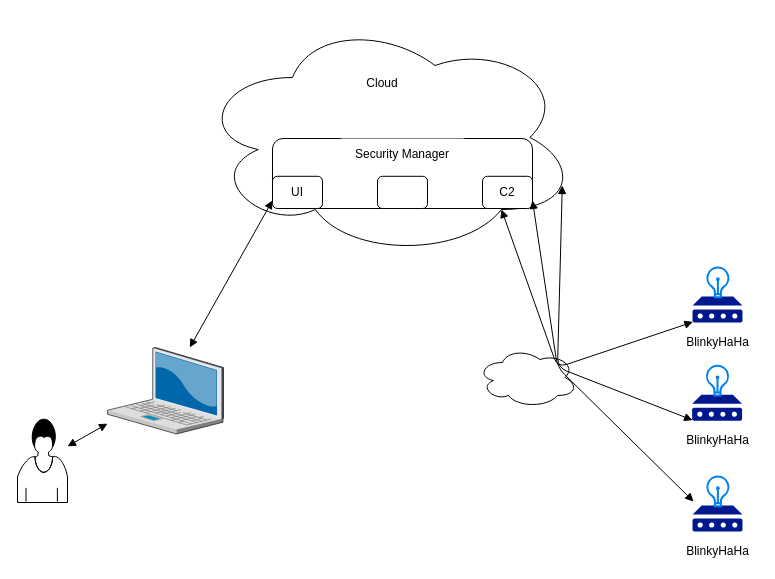
Image size: 775x579. Some labels were removed from this diagram. Each missing label, with the box of its shape:
Business Logic: (376, 175, 428, 208)
LAN: (476, 346, 578, 408)
